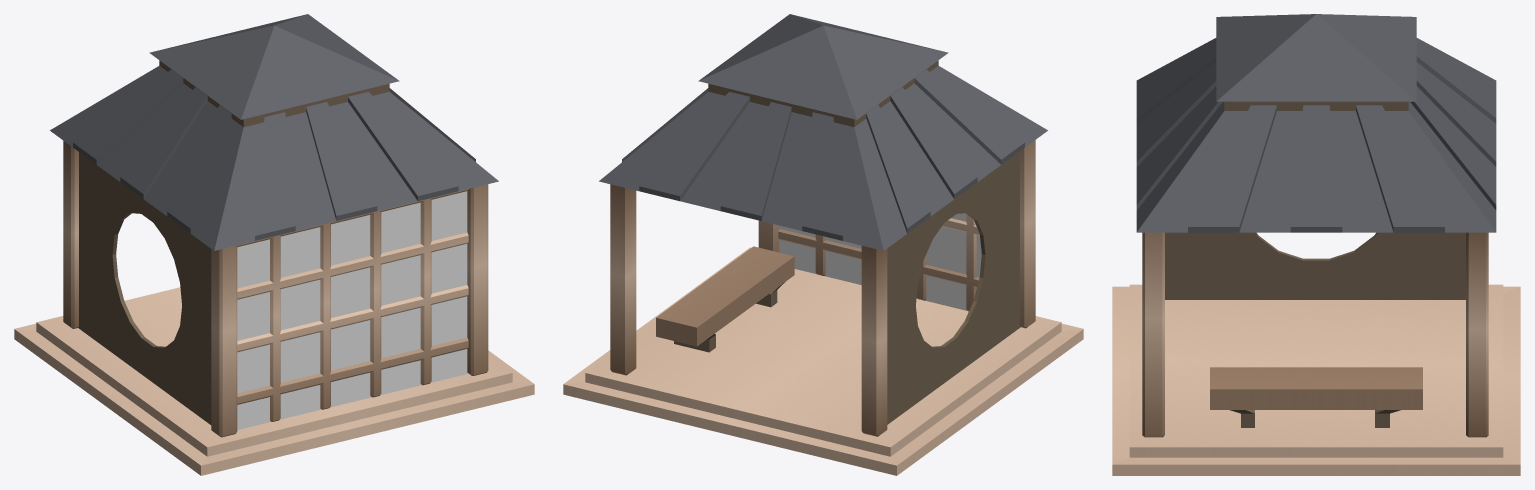
File: Raven_Small_Temple.fbx
The picture shows the model from 3 angles, left to right: view 1: azimuth 30°, elevation 25°; view 2: azimuth 150°, elevation 25°; view 3: azimuth 270°, elevation 25°; orthographic projection. The views are drawn at different scales.
Visible parts, largest first — view 1: Cube, Plane, Cube.001, Cube.002; view 2: Cube, Cube.002, Plane, Cube.001, Cube.003; view 3: Cube, Cube.002, Plane, Cube.003, Cube.001.
Boxes of the visible parts, x1,y1,x2,y2 form: Cube: [50, 14, 498, 250]; Plane: [78, 152, 468, 429]; Cube.001: [63, 141, 488, 437]; Cube.002: [14, 287, 534, 475]; Cube: [599, 14, 1047, 250]; Cube.002: [563, 247, 1083, 475]; Plane: [779, 151, 1020, 424]; Cube.001: [610, 140, 1035, 436]; Cube.003: [656, 246, 794, 352]; Cube: [1136, 14, 1496, 232]; Cube.002: [1112, 284, 1520, 475]; Plane: [1165, 232, 1465, 299]; Cube.003: [1210, 367, 1422, 427]; Cube.001: [1142, 232, 1488, 437].
Bounding box in the file's own units: 783 × 765 × 760.
Materials: 4 (1 with a texture image).
